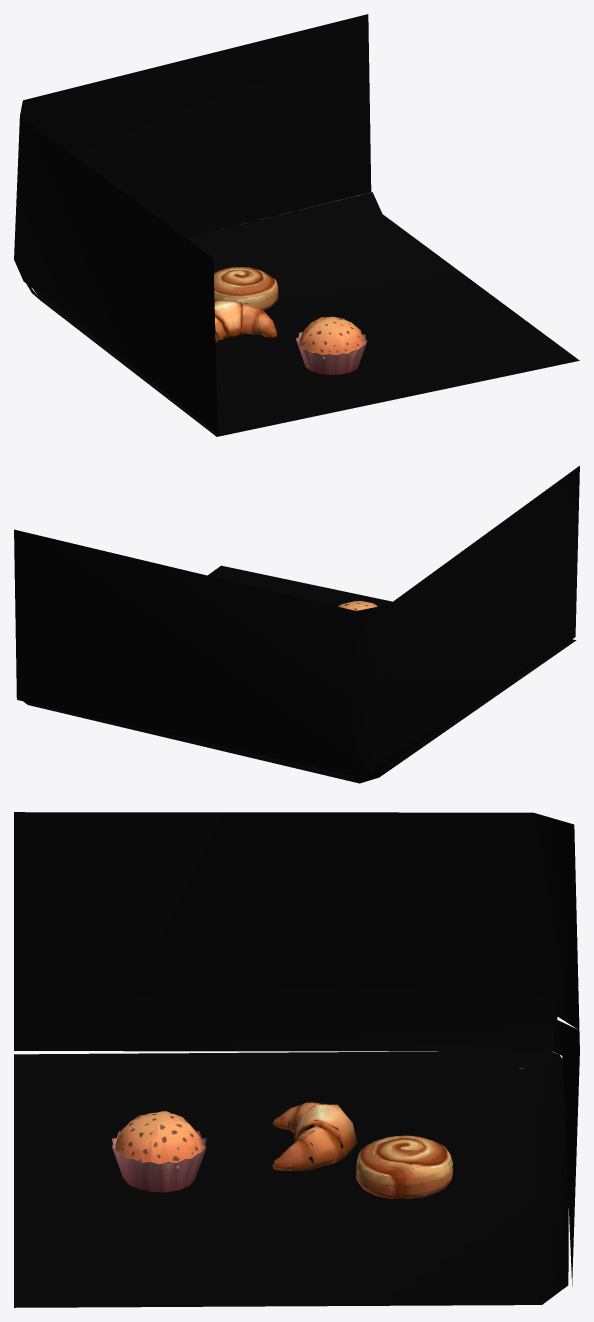
File: baked_goods.glb
The picture shows the model from 3 angles, top to bottom: view 1: azimuth 30°, elevation 25°; view 2: azimuth 150°, elevation 25°; view 3: azimuth 270°, elevation 25°; orthographic projection. The views are drawn at different scales.
Visible parts, largest first — view 1: Object_8, Object_4, Object_6, Object_10, Object_11, Object_13; view 2: Object_8; view 3: Object_8, Object_4, Object_6, Object_11, Object_10, Object_13.
Part boxes in pixels (bbox=[...]): Object_8: bbox=[14, 14, 579, 436]; Object_4: bbox=[214, 267, 278, 310]; Object_6: bbox=[214, 300, 276, 342]; Object_10: bbox=[298, 316, 364, 354]; Object_11: bbox=[296, 332, 367, 374]; Object_13: bbox=[299, 317, 363, 354]; Object_8: bbox=[14, 465, 579, 783]; Object_8: bbox=[14, 812, 579, 1307]; Object_4: bbox=[356, 1135, 453, 1199]; Object_6: bbox=[271, 1102, 356, 1170]; Object_11: bbox=[112, 1131, 206, 1192]; Object_10: bbox=[114, 1111, 203, 1163]; Object_13: bbox=[115, 1112, 198, 1163].
Size of the model in its own units: 11.54 by 5.78 by 11.54.
5 materials, 4 textured.
